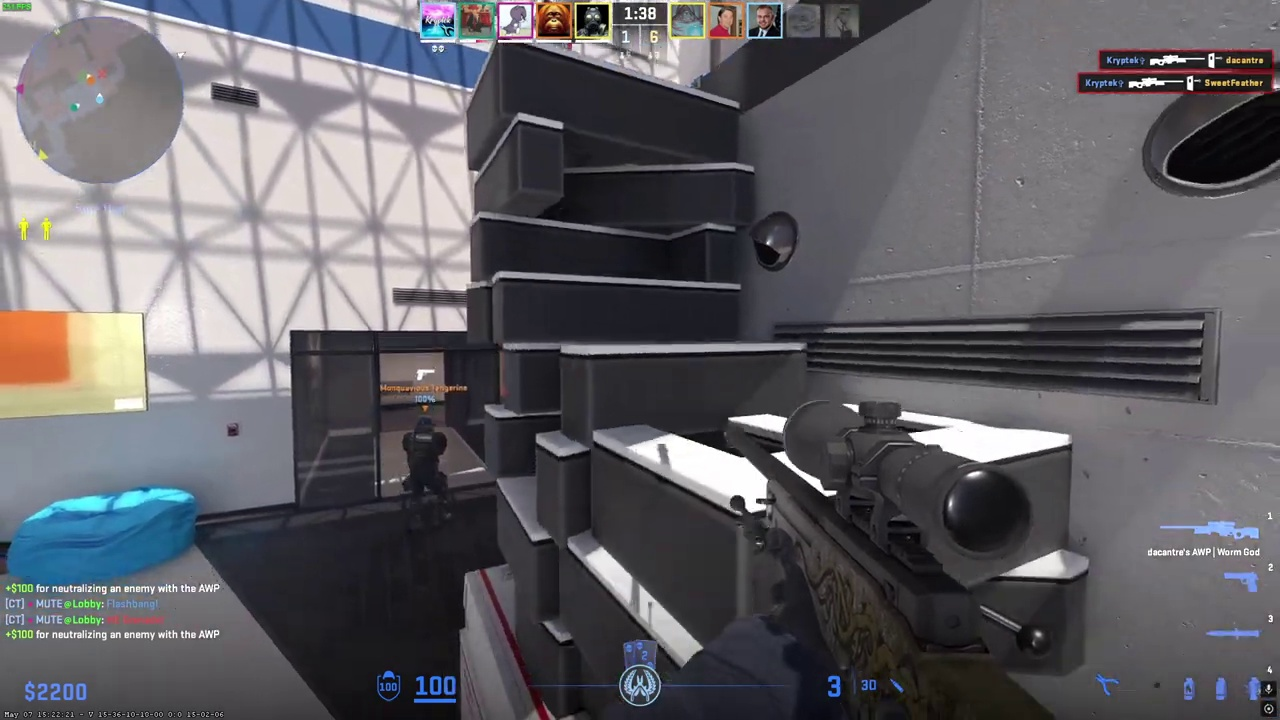CT: (402, 416, 452, 521)
